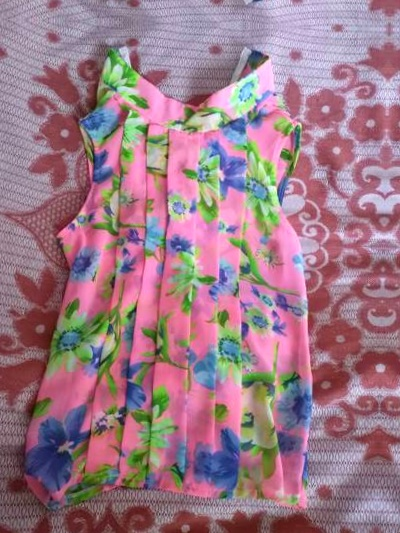Dress: (13, 47, 358, 533), (27, 0, 371, 0)
